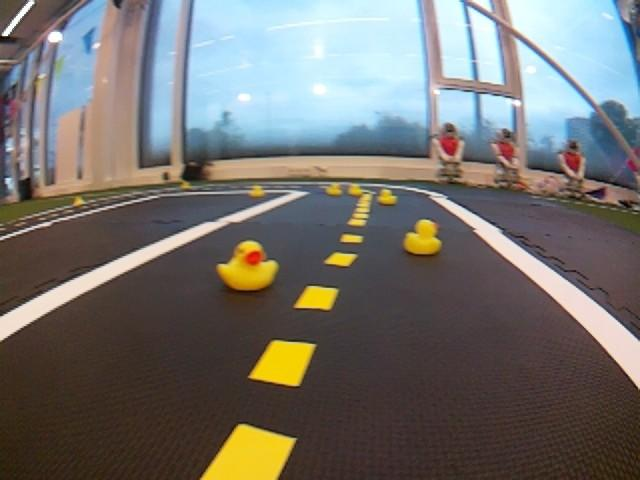Duckies: (218, 239, 278, 291), (402, 219, 442, 254), (377, 189, 397, 205), (250, 185, 266, 197), (326, 184, 342, 196), (348, 184, 362, 197), (73, 196, 85, 204), (181, 181, 191, 189)
